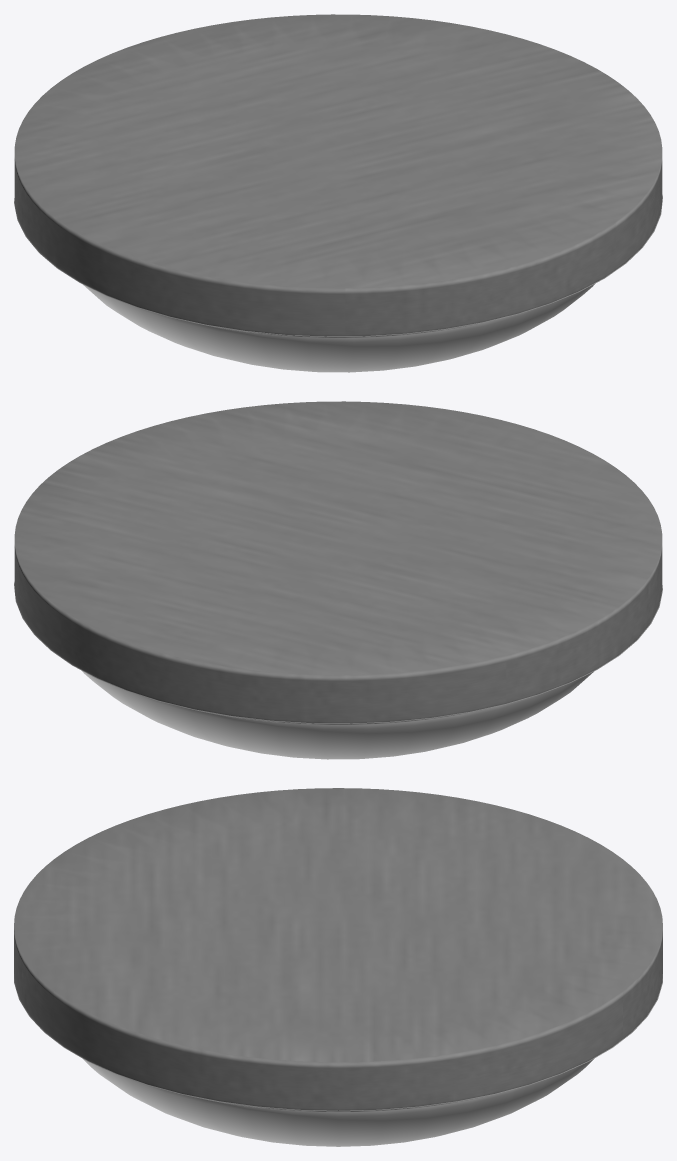
The model's file is BathroomLight.fbx.
3 views of the same model, one above another, from view 1: azimuth 30°, elevation 25°; view 2: azimuth 150°, elevation 25°; view 3: azimuth 270°, elevation 25° (orthographic).
Parts seen in each view (by area): view 1: pCylinder1, pSphere1; view 2: pCylinder1, pSphere1; view 3: pCylinder1, pSphere1.
Part boxes in pixels (x1,y1,x2,y2): pCylinder1: [14, 14, 662, 338]; pSphere1: [83, 283, 595, 372]; pCylinder1: [14, 401, 662, 725]; pSphere1: [81, 670, 593, 759]; pCylinder1: [14, 788, 662, 1112]; pSphere1: [82, 1058, 594, 1146].
Bounding box in the file's own units: 7.62 × 2.22 × 7.6.
2 materials, 1 textured.
